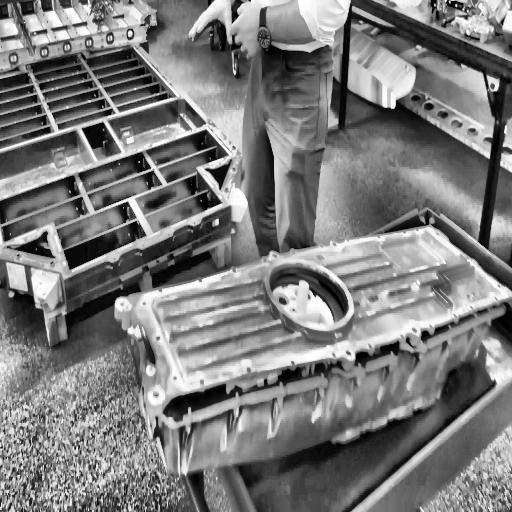bms_unit: (112, 220, 512, 479)
connector: (261, 250, 357, 334)
